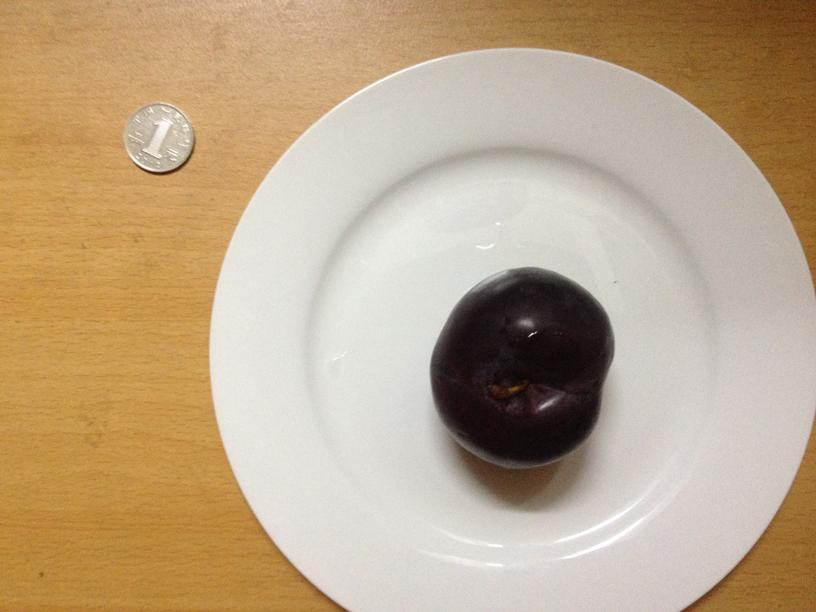coin: (122, 102, 197, 173)
plum: (423, 262, 615, 471)
